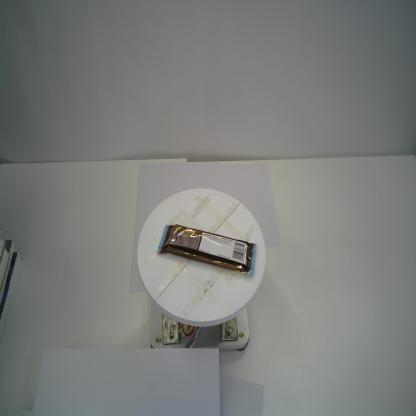Chocolate: (156, 224, 257, 278)
